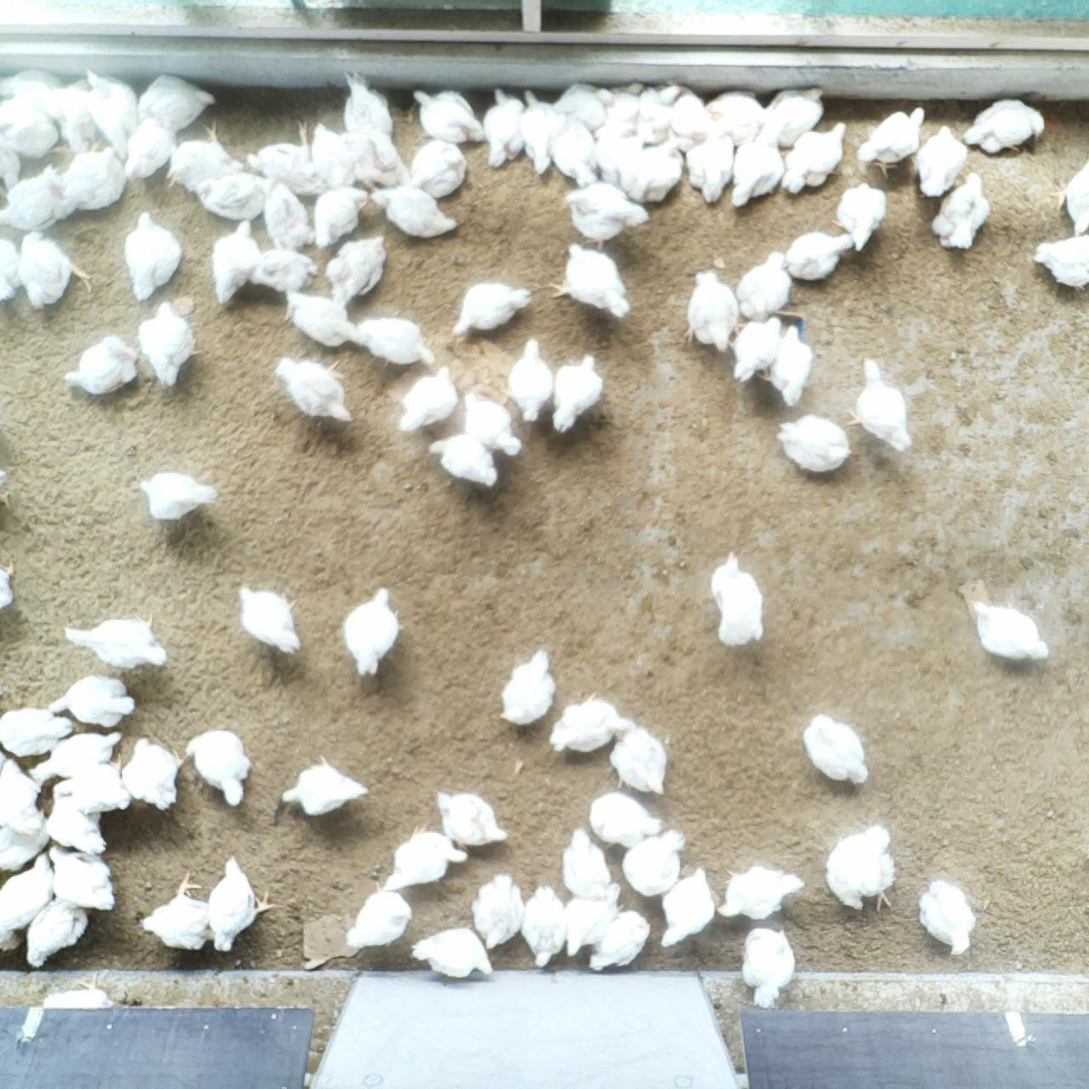chicken: (841, 354, 913, 457), (546, 235, 632, 319), (205, 853, 275, 954), (62, 611, 171, 673), (242, 118, 328, 196), (341, 580, 407, 681), (381, 821, 471, 895), (14, 232, 97, 311), (776, 119, 851, 206), (825, 823, 898, 912), (166, 120, 250, 196), (141, 873, 220, 953), (564, 179, 649, 253), (137, 299, 206, 389), (708, 549, 770, 649), (958, 94, 1051, 160), (969, 597, 1054, 669), (81, 67, 142, 166), (273, 352, 356, 424), (50, 142, 125, 221), (915, 877, 982, 965), (279, 753, 369, 816), (929, 171, 997, 254), (658, 862, 718, 956), (800, 710, 870, 789), (185, 727, 254, 807), (734, 921, 796, 1010), (716, 861, 802, 925), (682, 266, 743, 356), (0, 852, 57, 948), (407, 82, 487, 150), (123, 210, 182, 301), (725, 121, 783, 213), (58, 334, 140, 399), (858, 108, 930, 182), (28, 728, 124, 783), (498, 644, 558, 731), (41, 673, 135, 728), (774, 411, 856, 474), (618, 827, 689, 899), (431, 787, 510, 851), (476, 81, 532, 171), (370, 184, 460, 240), (45, 843, 119, 911), (120, 737, 187, 812), (547, 351, 606, 436), (563, 883, 627, 961), (754, 321, 811, 408), (681, 120, 736, 210), (27, 894, 93, 969), (502, 337, 556, 428), (621, 135, 686, 210), (131, 74, 218, 130), (470, 871, 530, 952), (450, 282, 535, 339), (346, 882, 415, 952), (606, 723, 671, 797), (207, 217, 262, 304), (545, 695, 622, 757), (349, 314, 439, 367), (138, 468, 223, 524), (411, 924, 496, 980), (777, 226, 859, 283), (280, 291, 362, 348), (325, 234, 389, 307), (61, 751, 133, 815), (587, 791, 660, 854), (0, 165, 70, 230), (829, 180, 889, 255), (237, 585, 303, 653), (586, 907, 652, 975), (519, 881, 570, 968), (399, 139, 473, 198), (516, 88, 566, 175), (913, 121, 970, 197), (735, 246, 790, 324), (341, 125, 409, 188), (422, 432, 499, 487), (762, 83, 827, 148), (458, 395, 524, 459), (544, 110, 598, 188), (310, 187, 373, 252), (729, 311, 783, 386), (196, 169, 268, 225), (398, 364, 460, 429), (51, 76, 102, 155), (1028, 228, 1089, 294), (0, 701, 73, 756), (561, 826, 613, 902), (44, 798, 109, 858), (703, 87, 770, 145), (343, 74, 398, 144), (0, 752, 46, 835), (258, 181, 311, 253), (658, 81, 711, 148), (594, 124, 647, 191), (0, 98, 59, 157), (549, 78, 611, 133), (123, 116, 176, 180), (248, 249, 321, 295), (594, 77, 646, 140), (0, 813, 55, 871), (310, 123, 356, 191), (0, 65, 62, 110), (633, 82, 673, 148), (1057, 156, 1089, 235), (0, 235, 25, 302), (0, 134, 23, 191), (0, 561, 15, 611)
